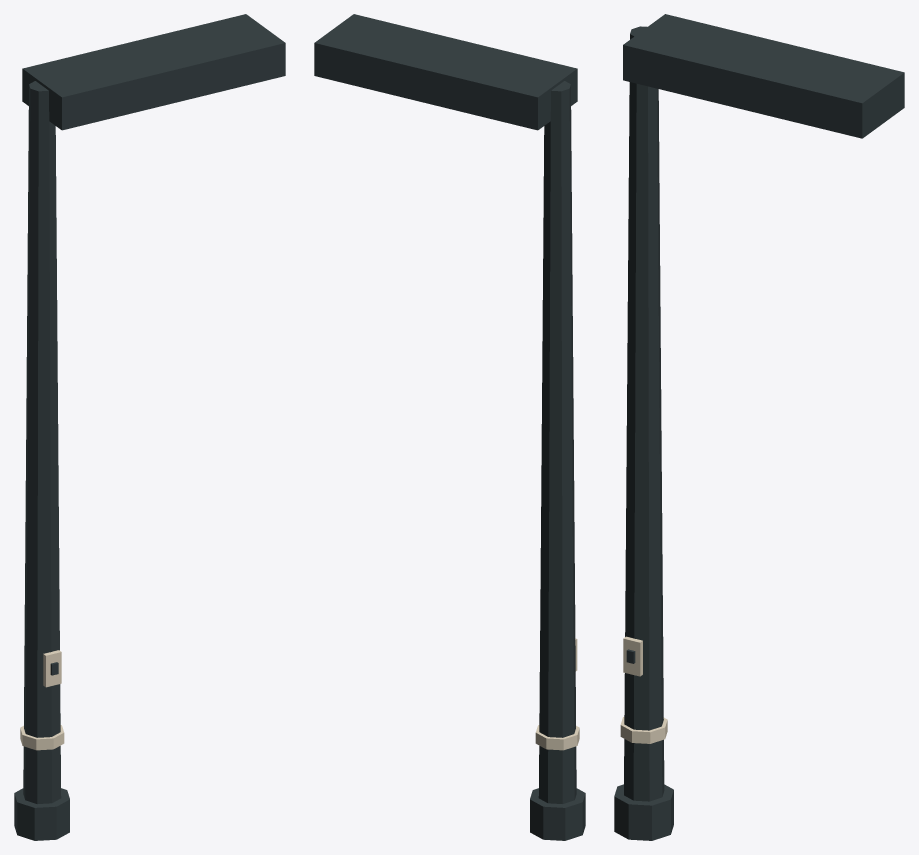
File: LM_PROP_StreetLamp.glb
3 renders of one model, left to right at view 1: azimuth 30°, elevation 25°; view 2: azimuth 150°, elevation 25°; view 3: azimuth 330°, elevation 25°, orthographic. The views are drawn at different scales.
Parts seen in each view (by area): view 1: LM_PROP_StreetLamp; view 2: LM_PROP_StreetLamp; view 3: LM_PROP_StreetLamp.
Boxes of the visible parts, x1,y1,x2,y2 form: LM_PROP_StreetLamp: (14, 14, 285, 840); LM_PROP_StreetLamp: (314, 14, 585, 840); LM_PROP_StreetLamp: (614, 14, 904, 840).
Size of the model in its own units: 1.89 by 5.42 by 0.52.
